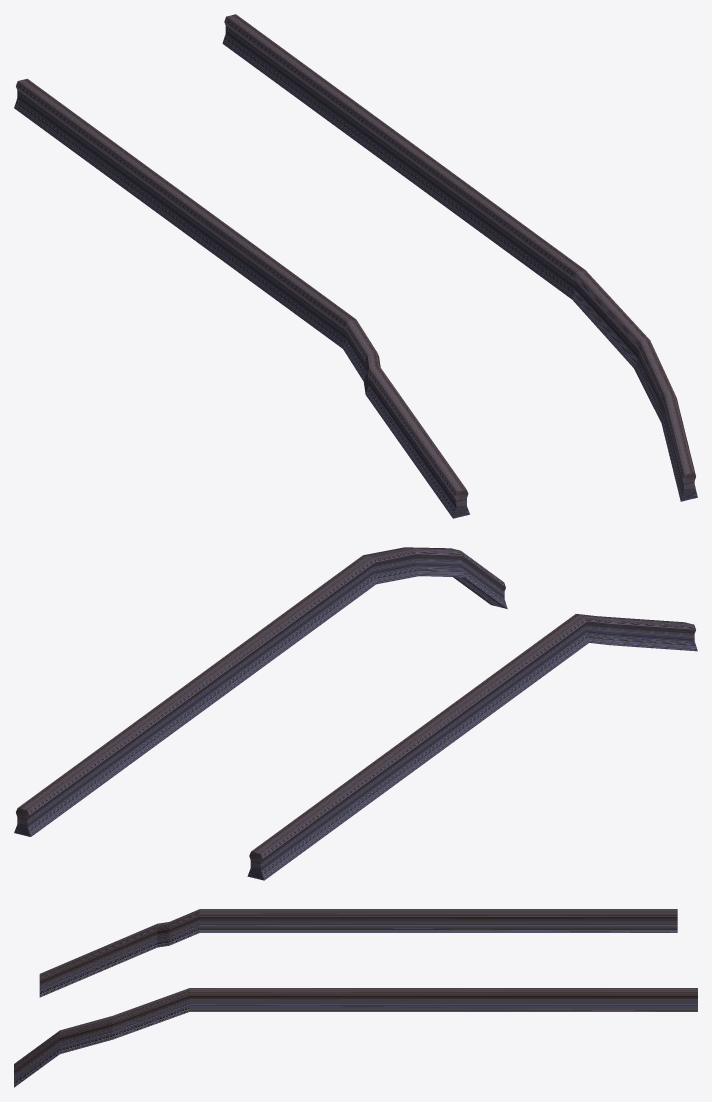
Rendered from SM_railsdrop.fbx.
3 views of the same model, one above another, from view 1: azimuth 30°, elevation 25°; view 2: azimuth 150°, elevation 25°; view 3: azimuth 270°, elevation 25° (orthographic). The views are drawn at different scales.
Visible parts, largest first — view 1: Cube.014; view 2: Cube.014; view 3: Cube.014.
Part boxes in pixels (box(x1,y1,x2,y2)): Cube.014: box(14, 14, 697, 518); Cube.014: box(14, 547, 697, 880); Cube.014: box(14, 909, 697, 1087).
Size of the model in its own units: 294 by 151 by 940.
